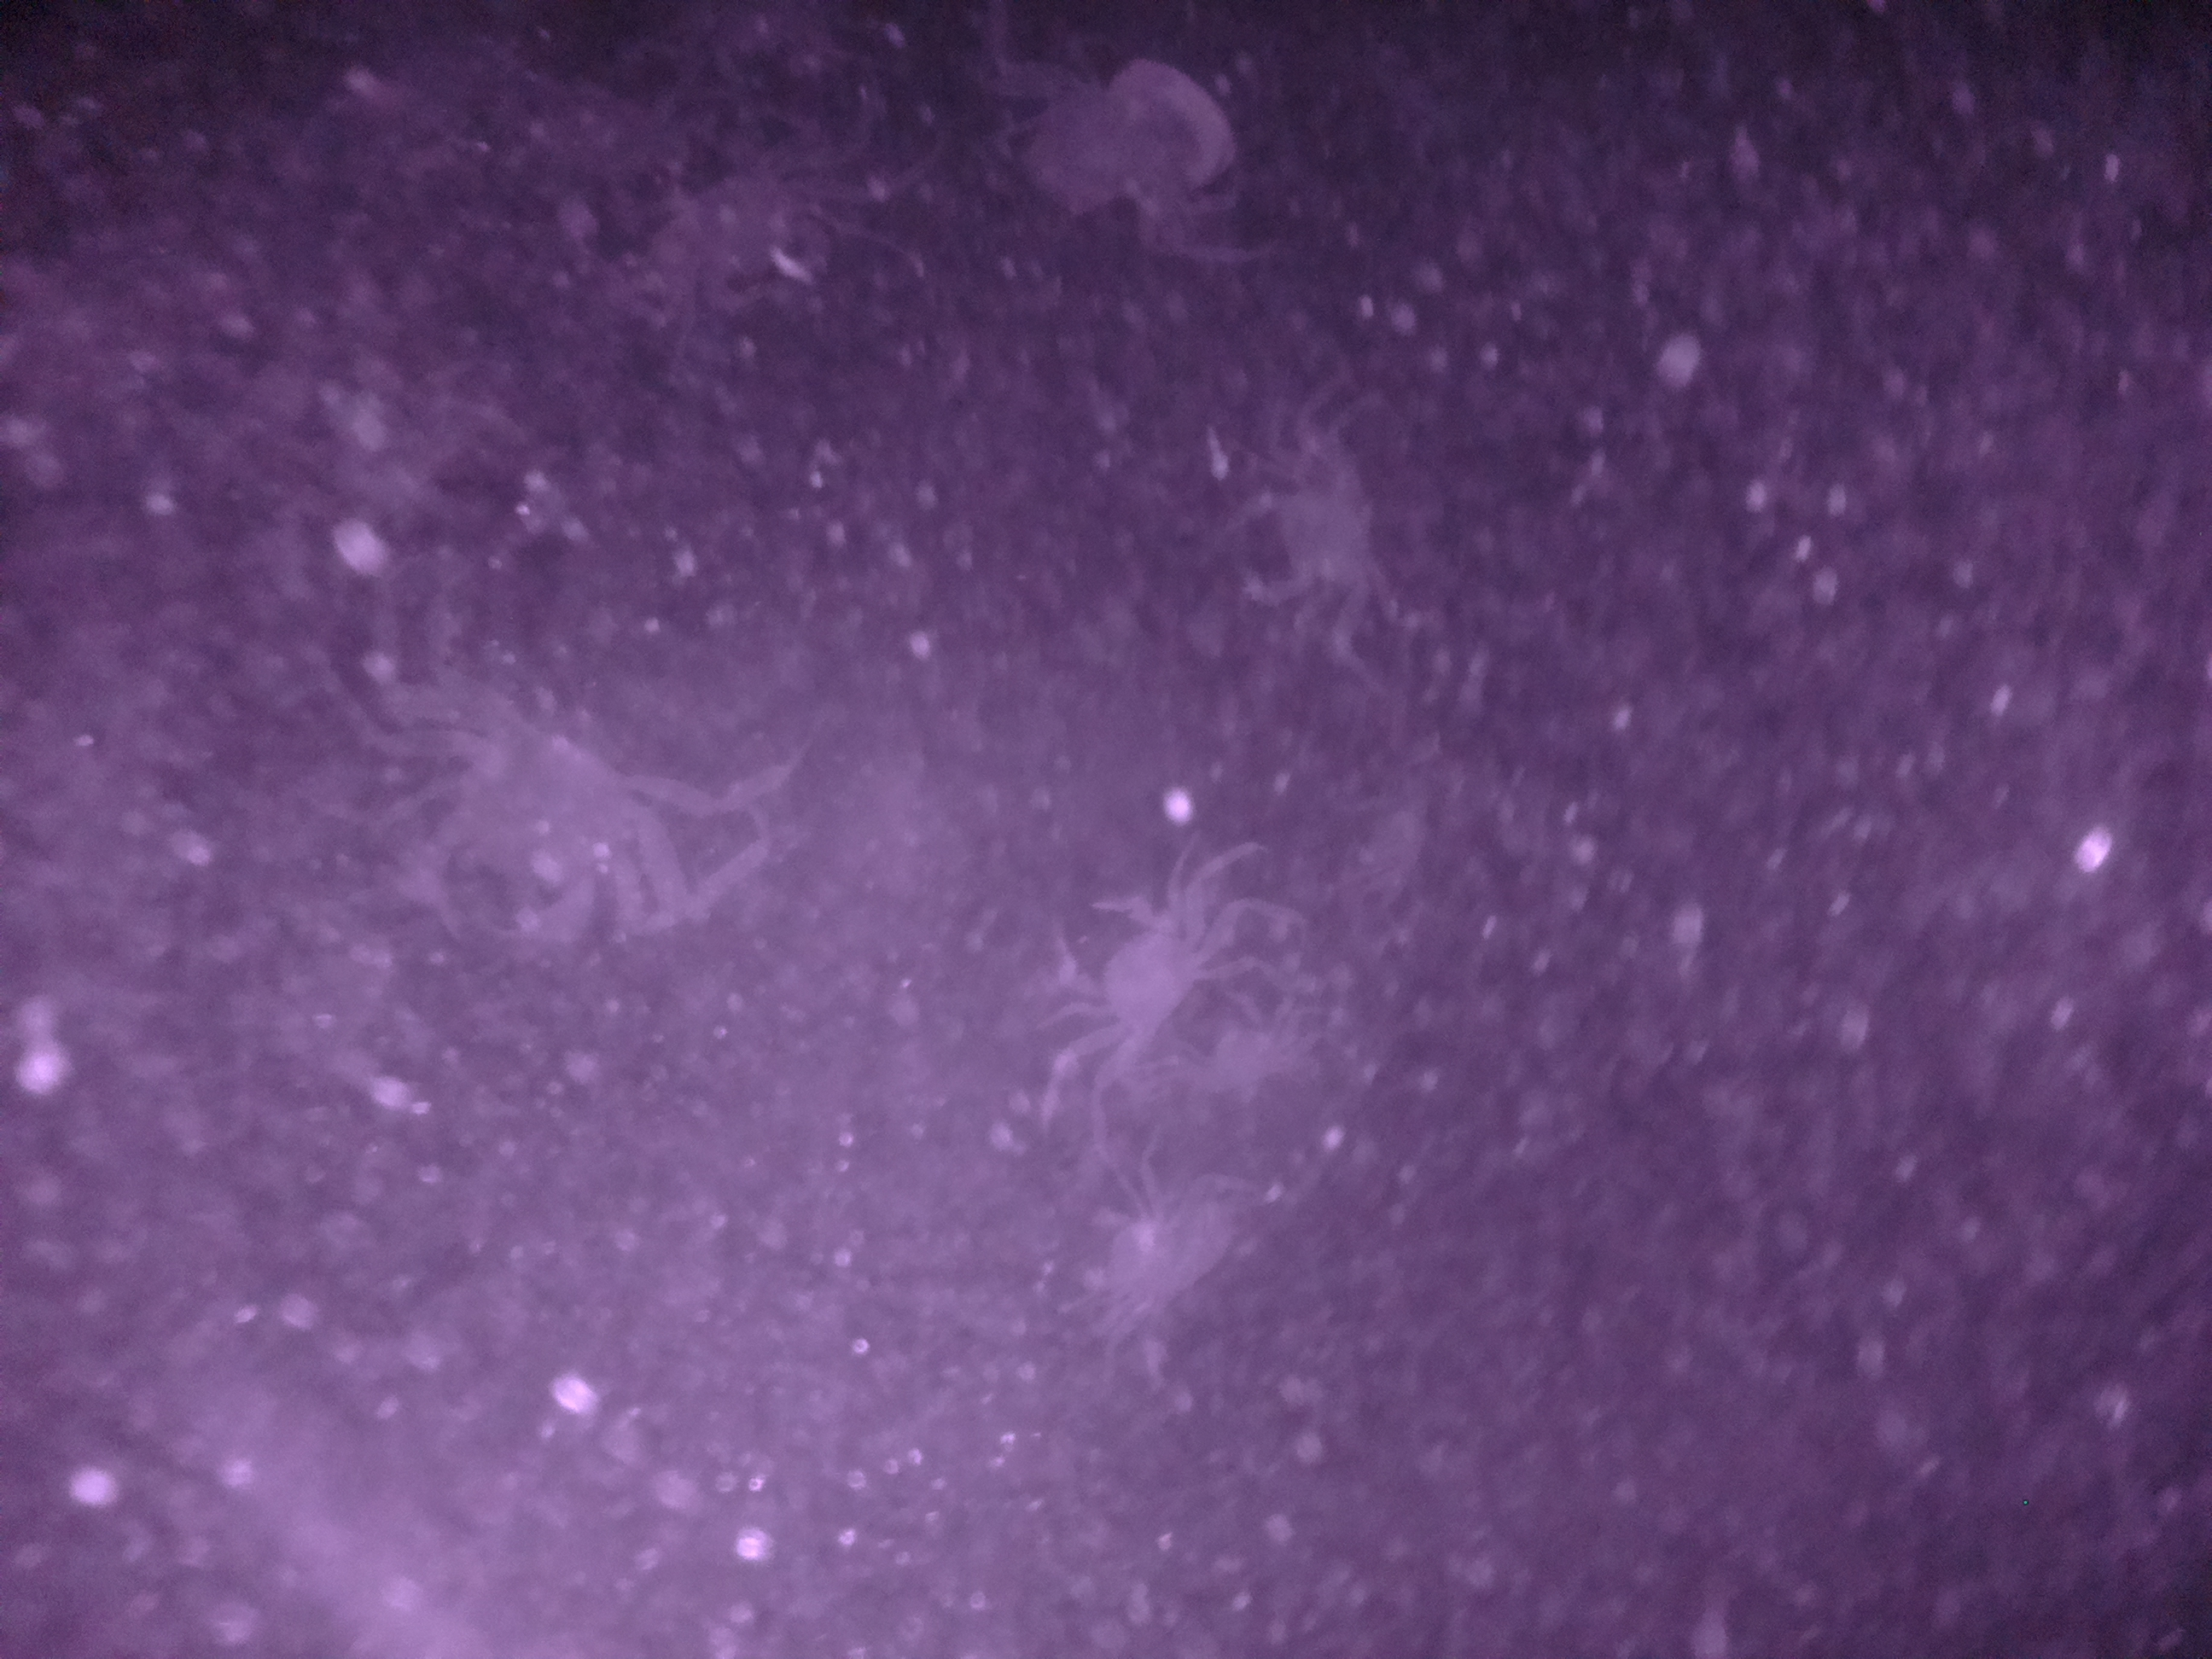Crab: (1047, 856, 1226, 1075)
